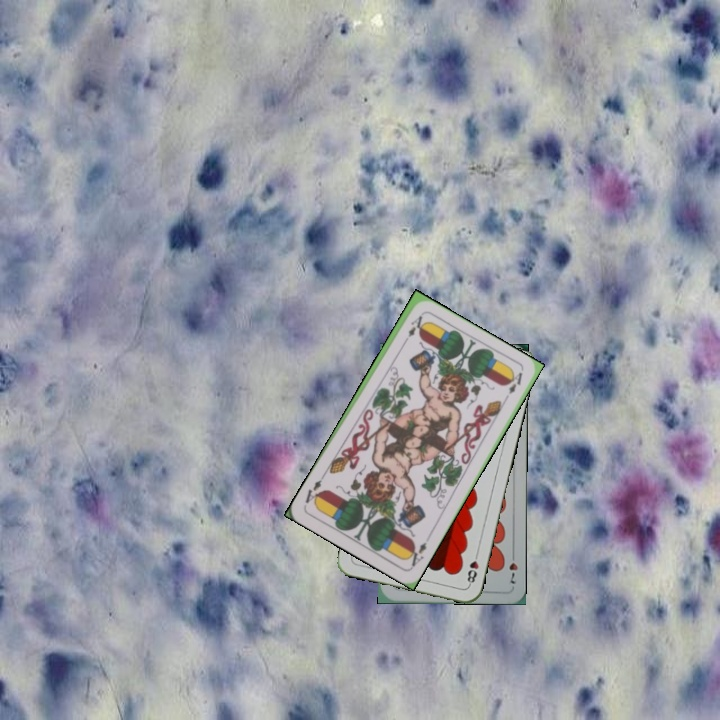EA: (403, 533, 432, 571), (399, 311, 425, 347)
H7: (505, 548, 520, 586)
H8: (463, 548, 481, 588)
